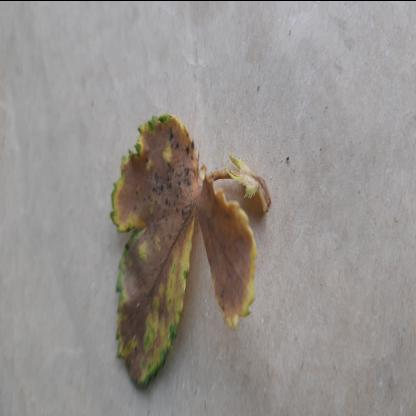black-spot: (102, 118, 260, 388)
